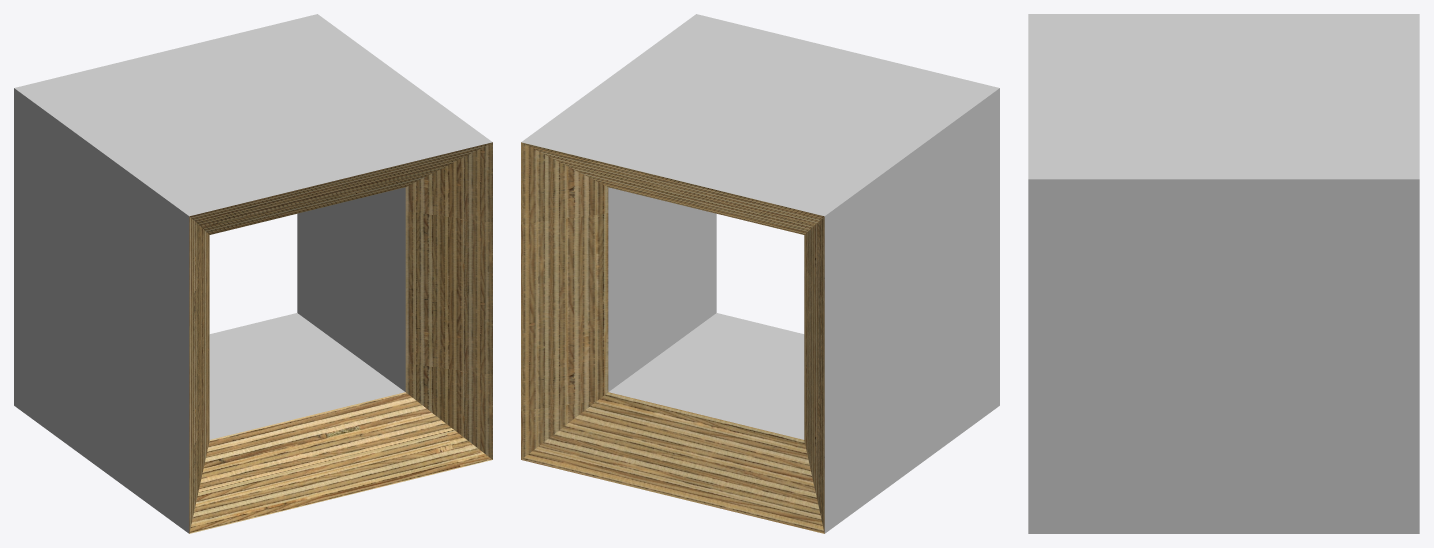
The model's file is Cubo Hueco.glb.
The picture shows the model from 3 angles, left to right: view 1: azimuth 30°, elevation 25°; view 2: azimuth 150°, elevation 25°; view 3: azimuth 270°, elevation 25°; orthographic projection. The views are drawn at different scales.
Visible parts, largest first — view 1: Cube.009, Cube.010; view 2: Cube.009, Cube.010; view 3: Cube.009.
Boxes of the visible parts, x1,y1,x2,y2 form: Cube.009: (14, 14, 492, 533); Cube.010: (189, 142, 492, 533); Cube.009: (521, 14, 999, 533); Cube.010: (521, 142, 824, 533); Cube.009: (1028, 14, 1419, 533).
Bounding box in the file's own units: 0.2467 × 0.2467 × 0.2467.
Materials: 2 (1 with a texture image).
